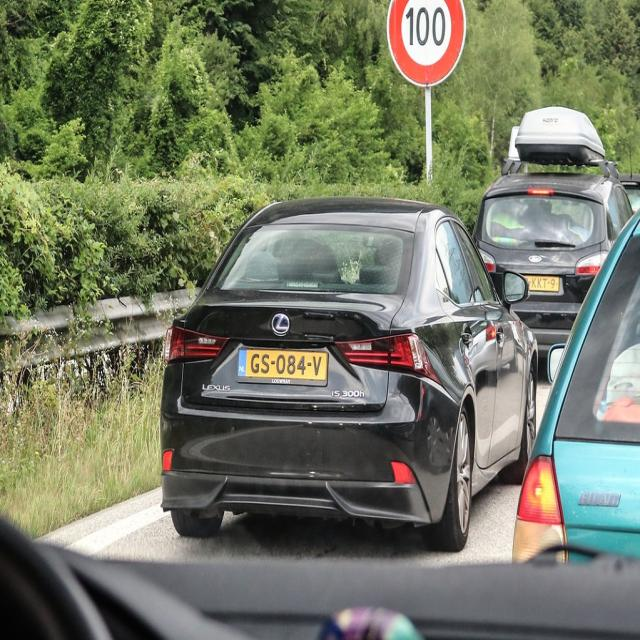number_plate: (232, 342, 330, 382)
